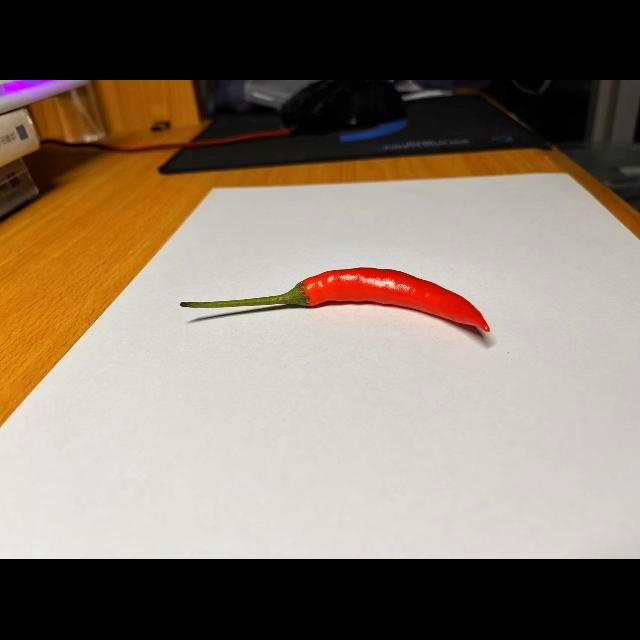chili_pepper: (178, 256, 494, 341)
